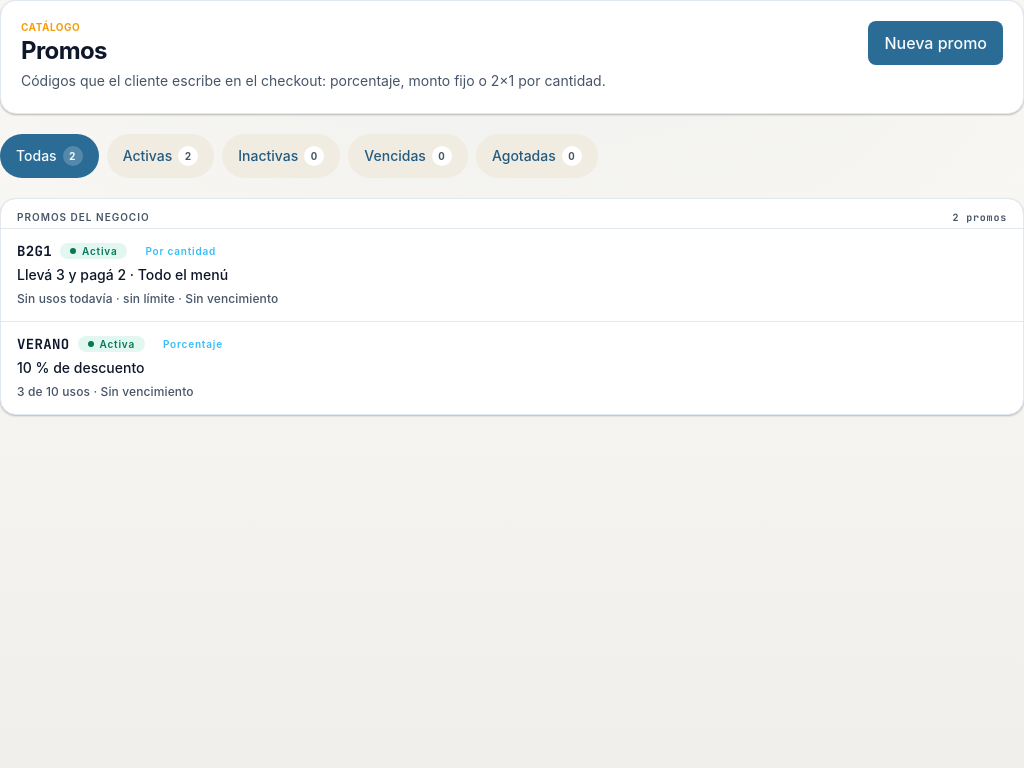
AdminPromotionsPage › borra una promo después de confirmar
Click the button with aria-label "Editar promo VERANO": (43, 344) 1,321 -> 1023,414
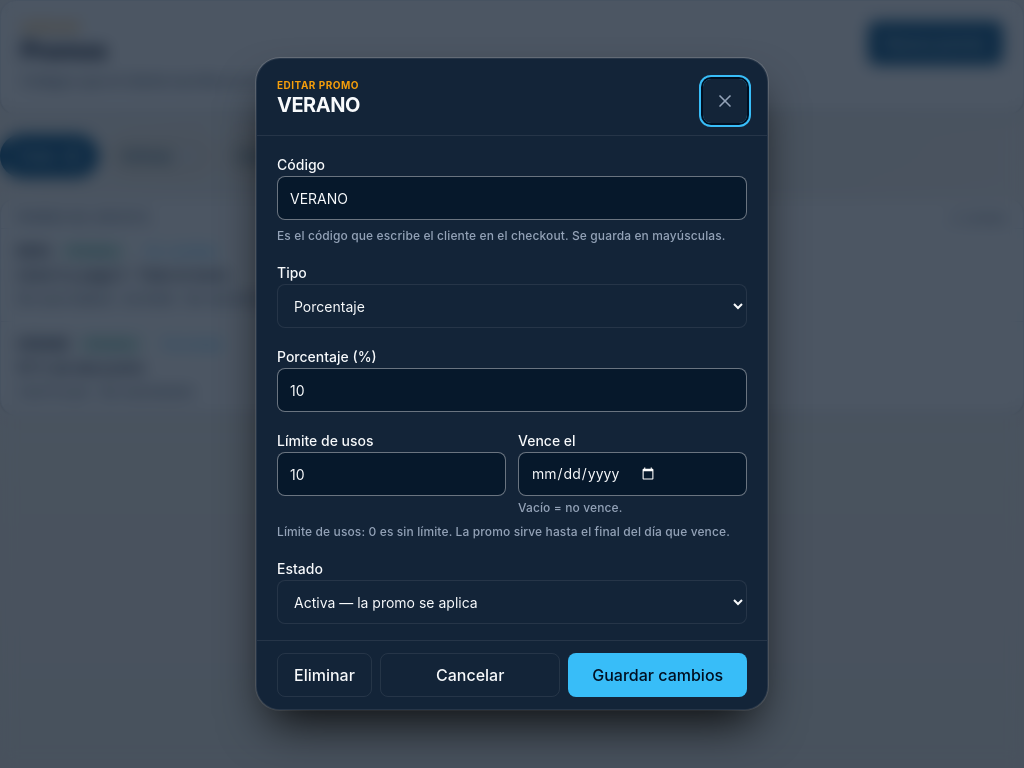
Click the button with aria-label "Eliminar promo VERANO": (324, 675) 277,653 -> 372,697
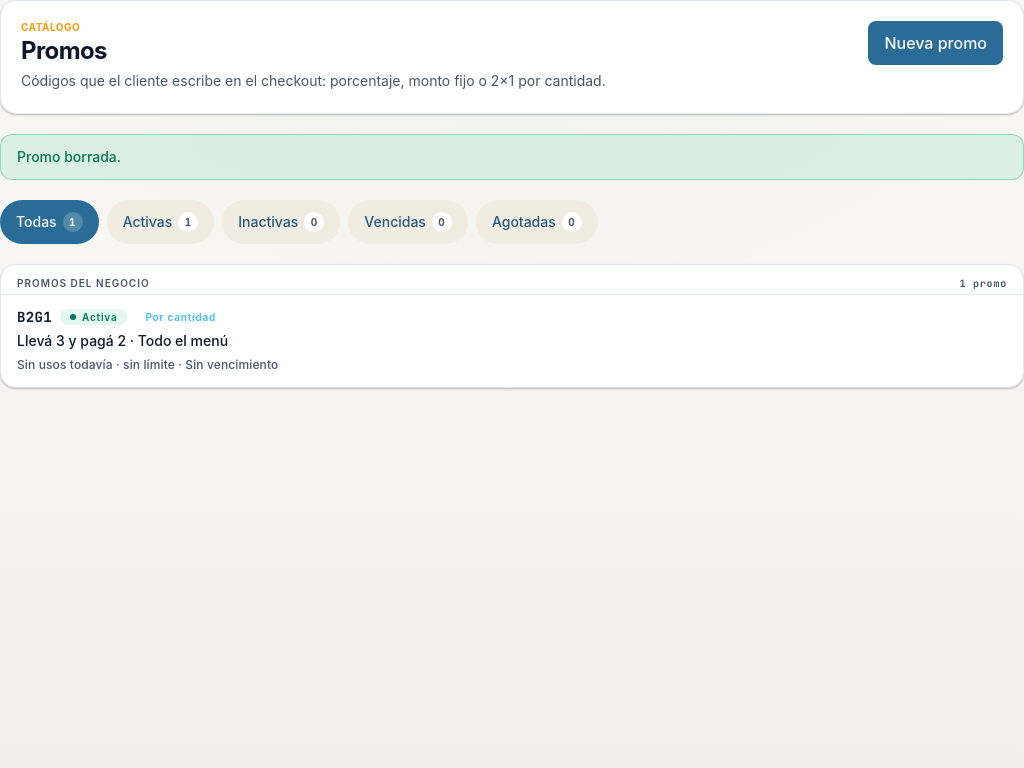
Expected: the text "Promo borrada." is shown, 0,134 -> 1023,180
Expected: the button "Editar promo VERANO" is gone
